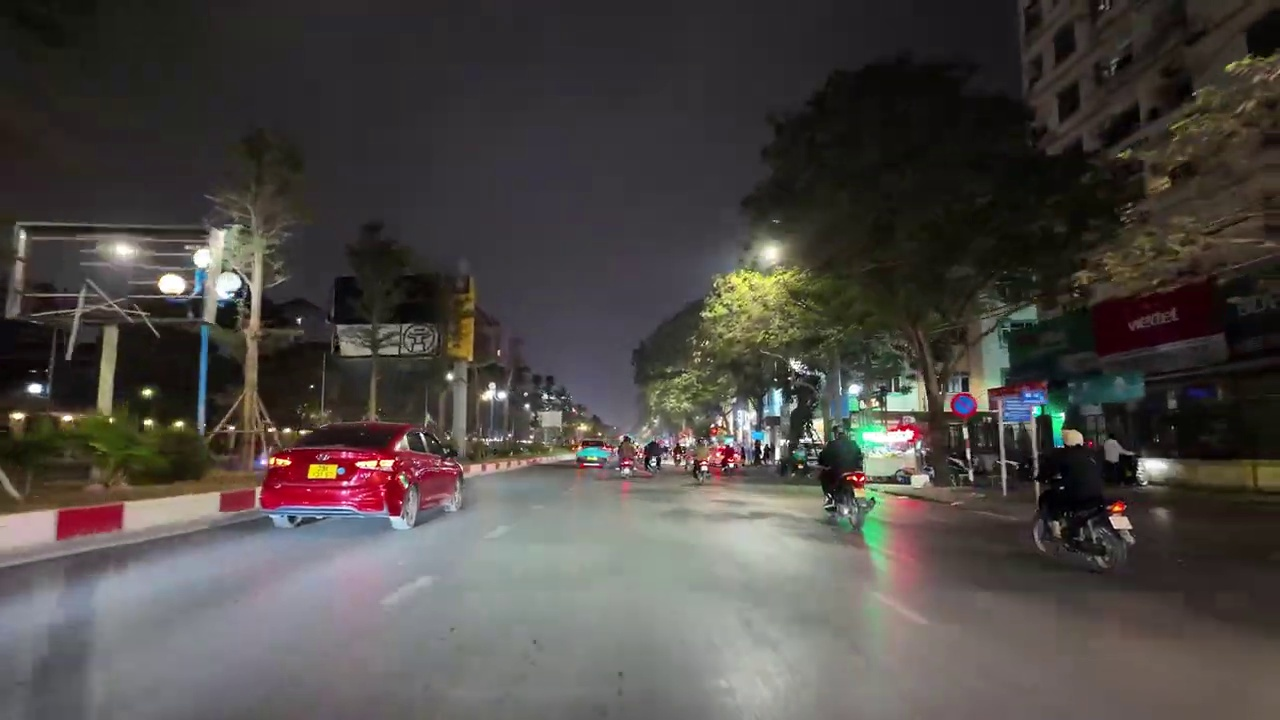acesa: (753, 240, 787, 269), (106, 239, 141, 266)
